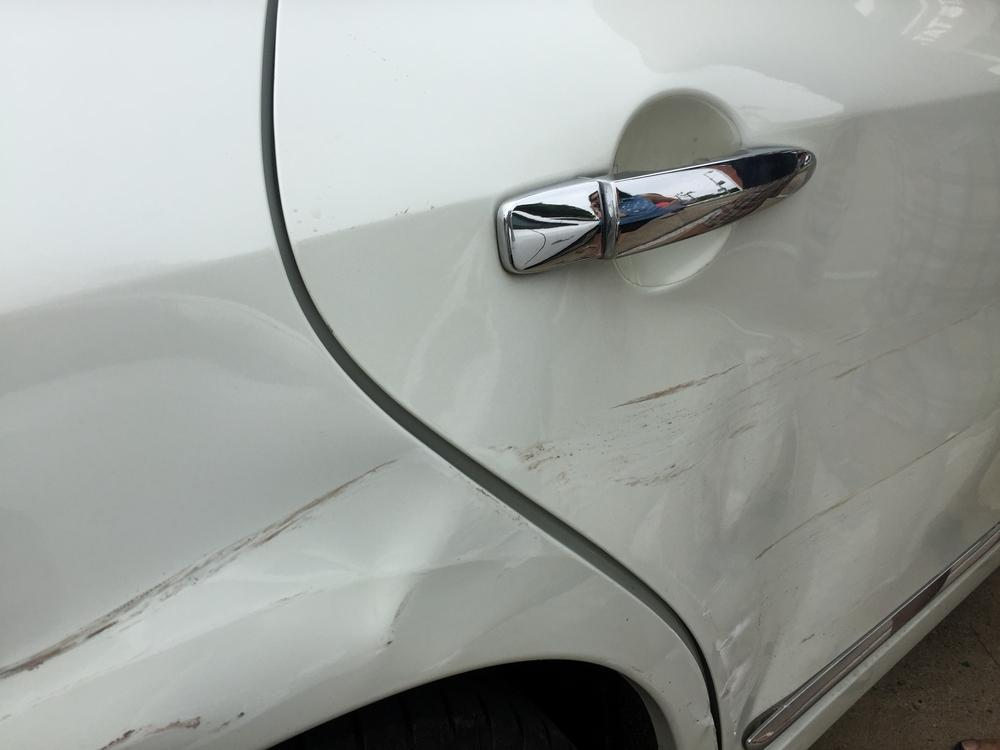dent: (0, 314, 455, 681), (689, 330, 946, 716), (404, 311, 493, 453)
scratch: (509, 370, 702, 488), (96, 706, 243, 750)
